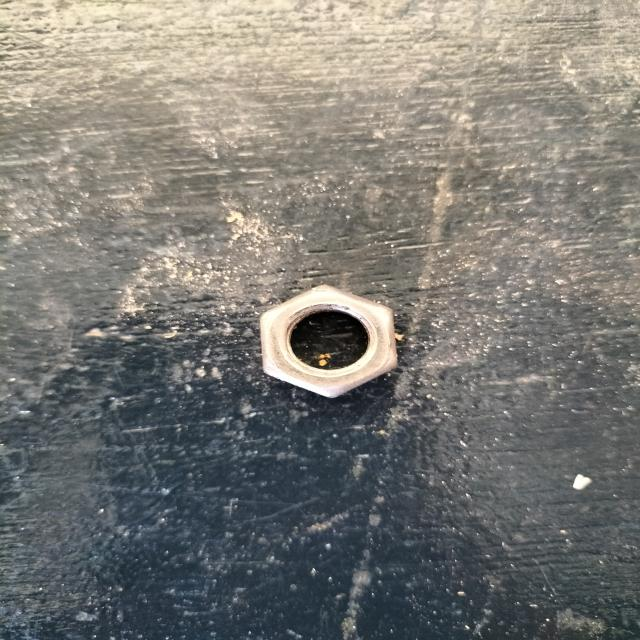nuts: (259, 285, 395, 398)
